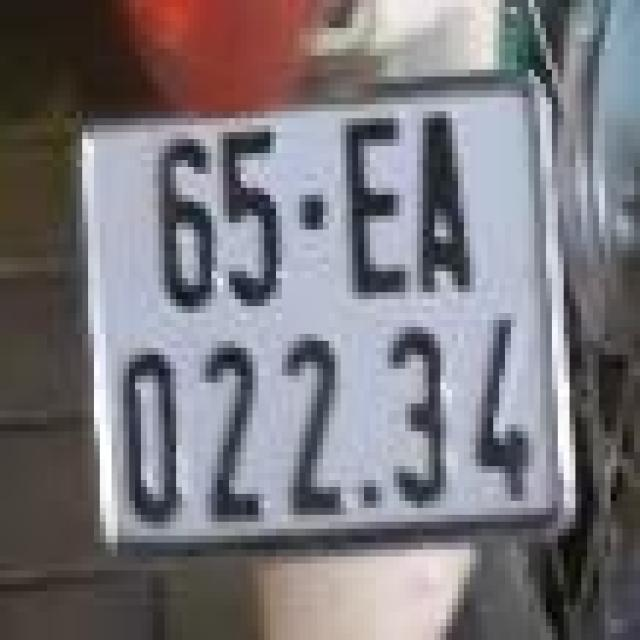0: (108, 327, 190, 536)
2: (200, 330, 270, 526), (285, 324, 349, 525)
3: (385, 317, 455, 518)
4: (473, 310, 549, 518)
5: (220, 125, 297, 299)
6: (144, 125, 220, 320)
A: (414, 101, 473, 302)
E: (338, 111, 414, 313)
